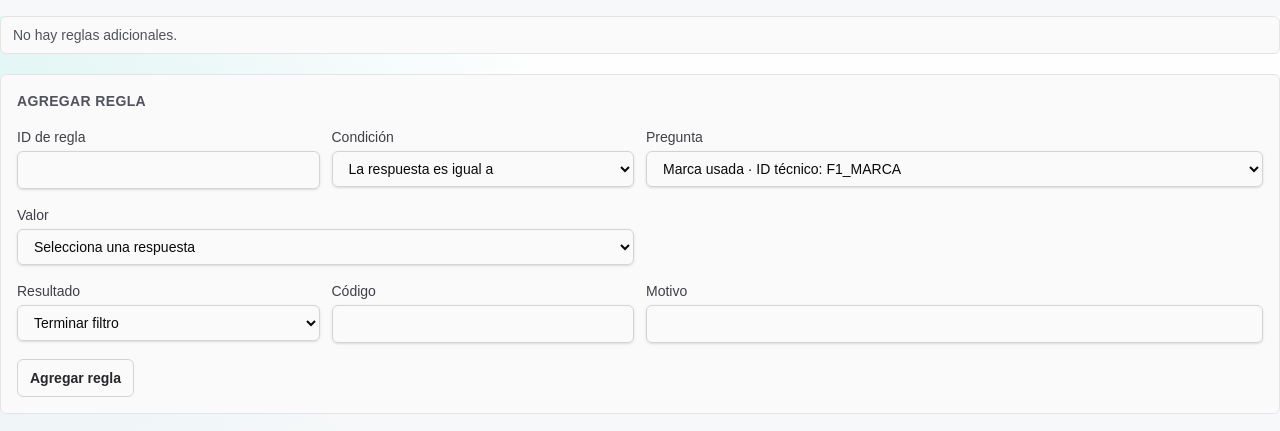
RuleGuidedForm › muestra controles de revisión solo cuando corresponden
Expected: the field labelled "La bandera requiere revisión" is not shown
Select "Marcar para revisión" in the dropdown labelled "Resultado": (168, 323) left=17, top=305, right=320, bottom=341
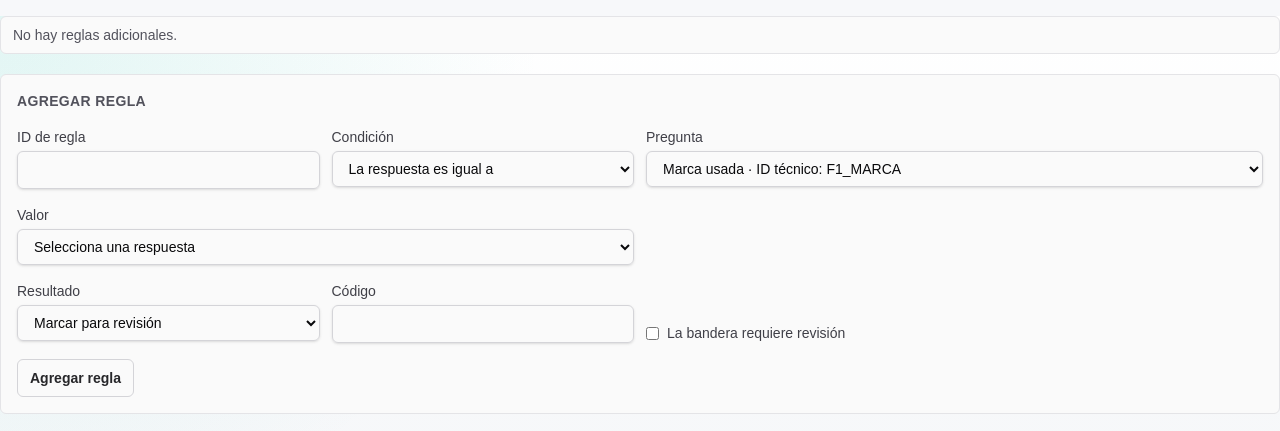
Result: the checkbox labelled "La bandera requiere revisión" is shown at left=646, top=326, right=659, bottom=340
Select "Enviar a revisión" in the dropdown labelled "Resultado": (168, 323) left=17, top=305, right=320, bottom=341
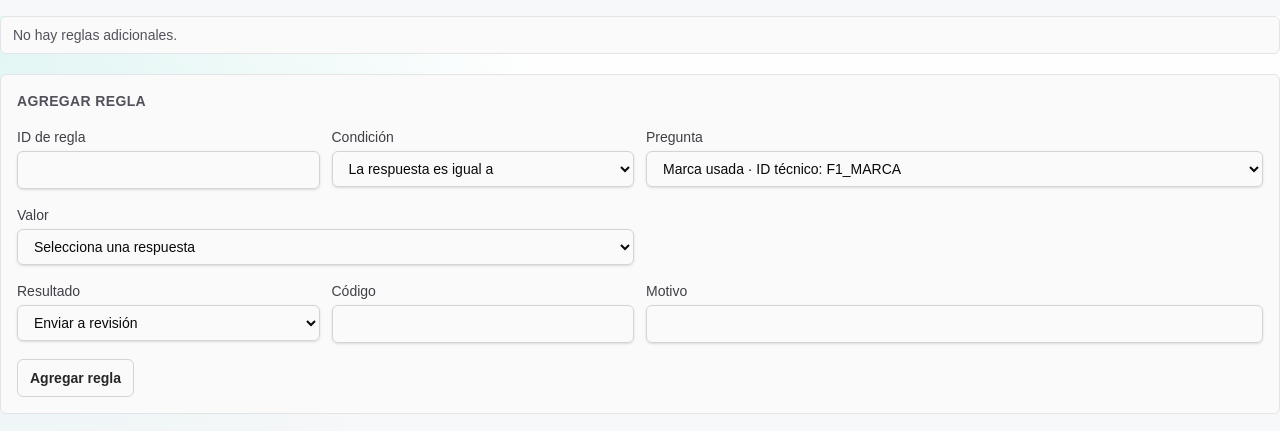
Result: the label labelled "La bandera requiere revisión" is gone
